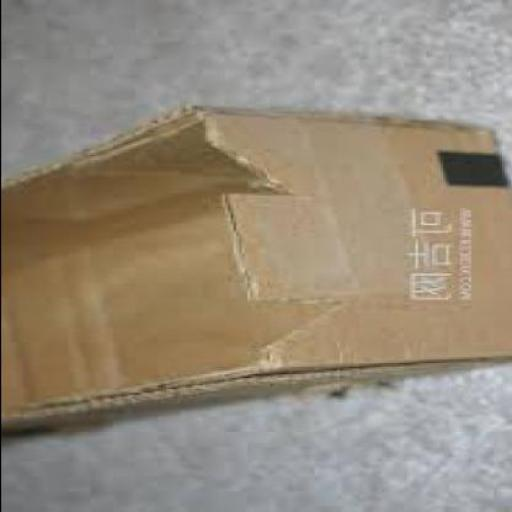cardboard: (0, 102, 510, 428)
